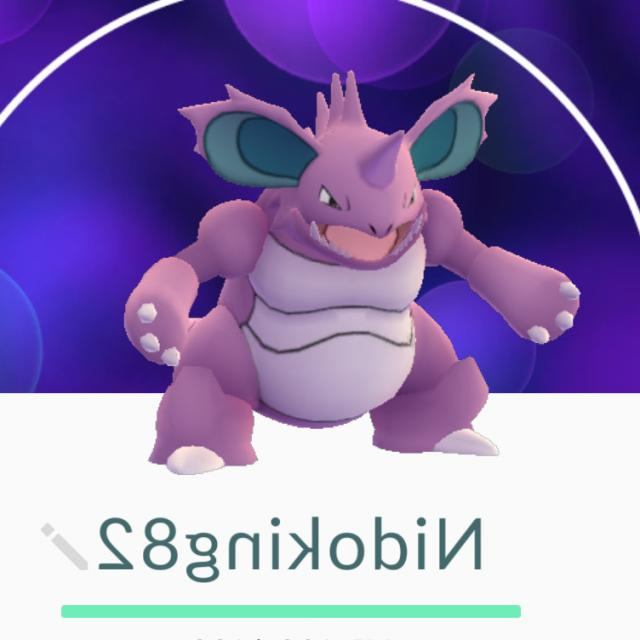Nidoking: (116, 62, 589, 478)
